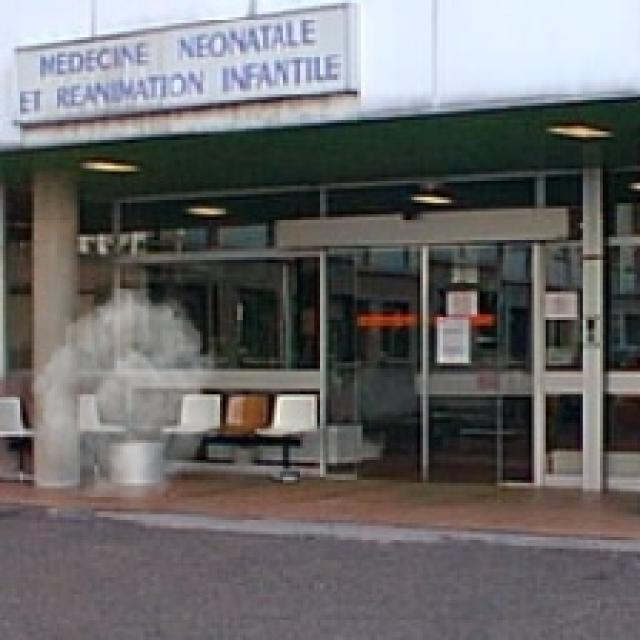Smoke: (23, 288, 226, 498)
